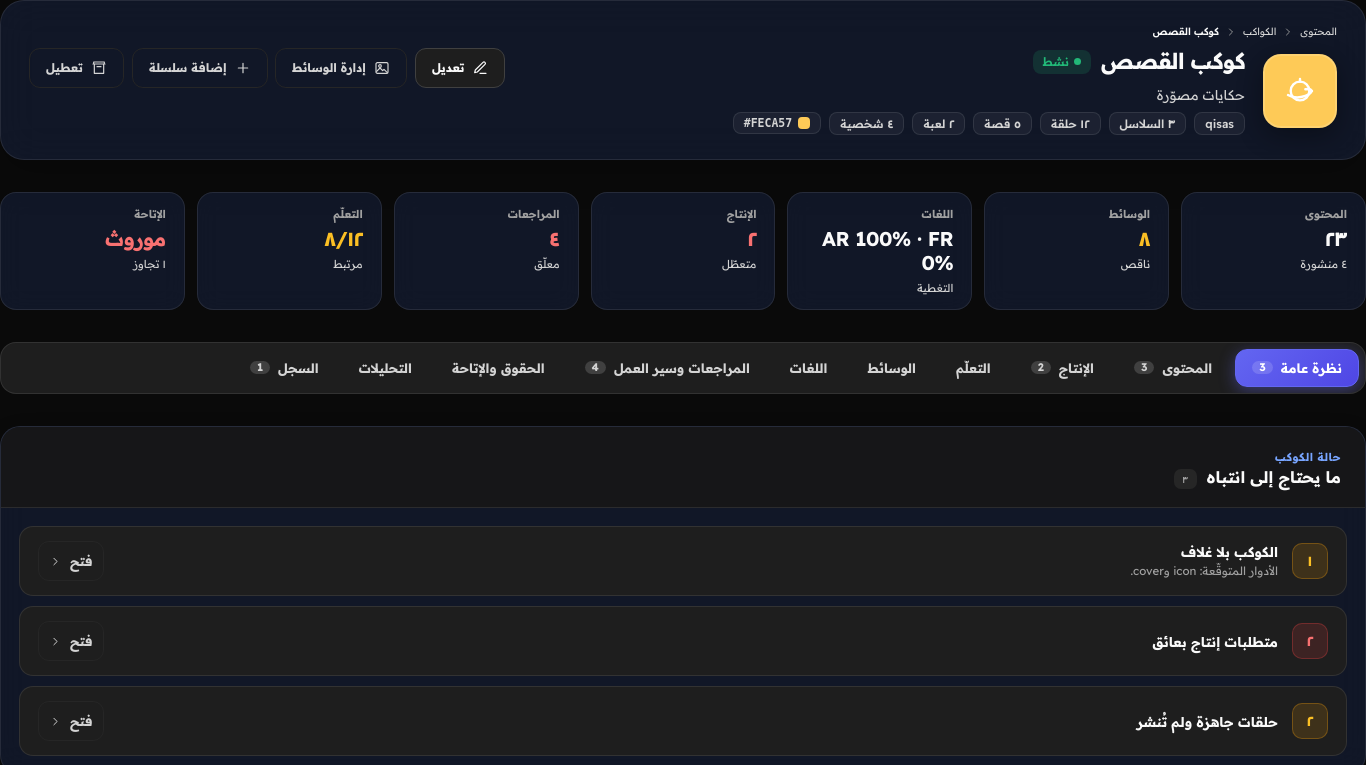
Scenario: PlanetWorkspacePage › the health strip exposes one cell per module and opens its tab
Click the button "الإنتاج ٢ متعطّل".
click(683, 251)  # box [591,192,776,310]
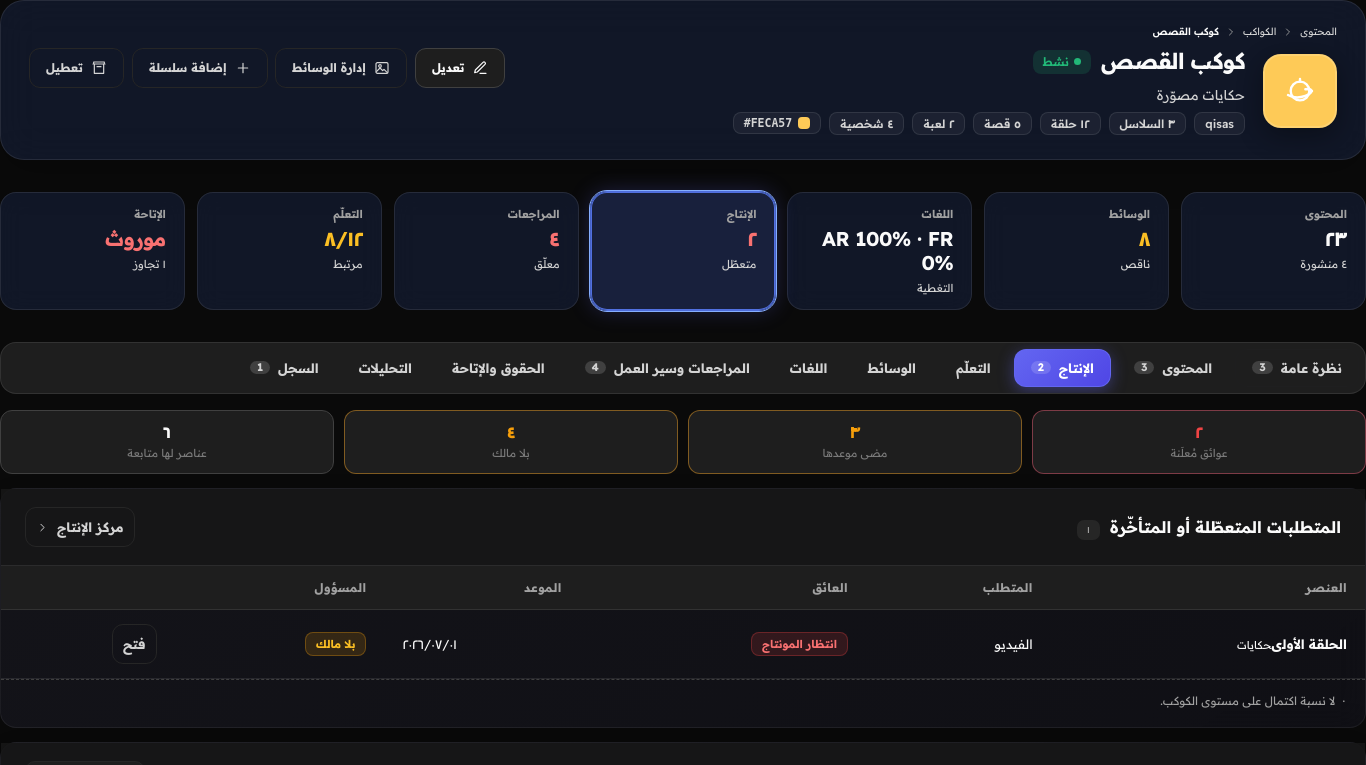
Expected: the text "عوائق مُعلَنة" is shown, [1170,446,1228,460]
